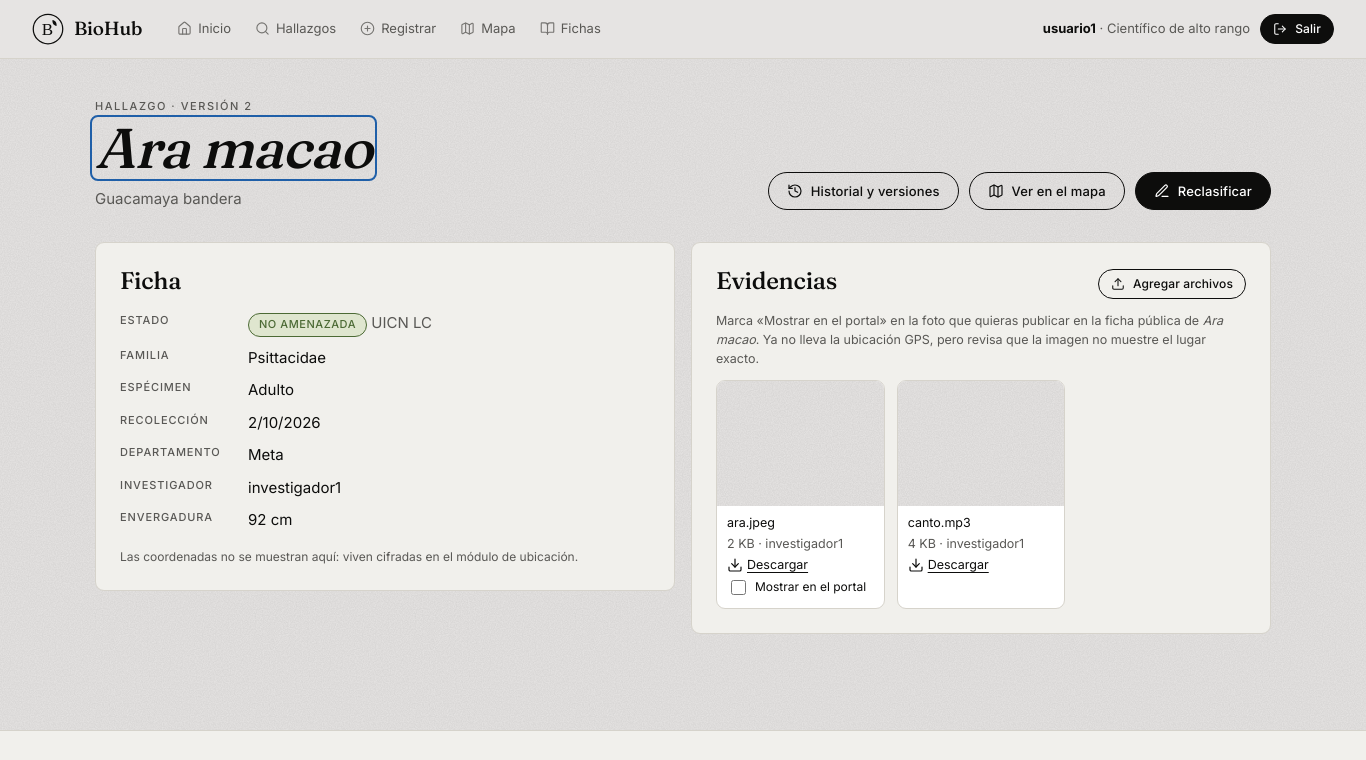
Test: Detalle del hallazgo › reclasificar exige justificación y crea la versión siguiente (HU-03)
Click the button "Reclasificar" at (1203, 191), box [1135,172,1271,210]
(page scrolled)
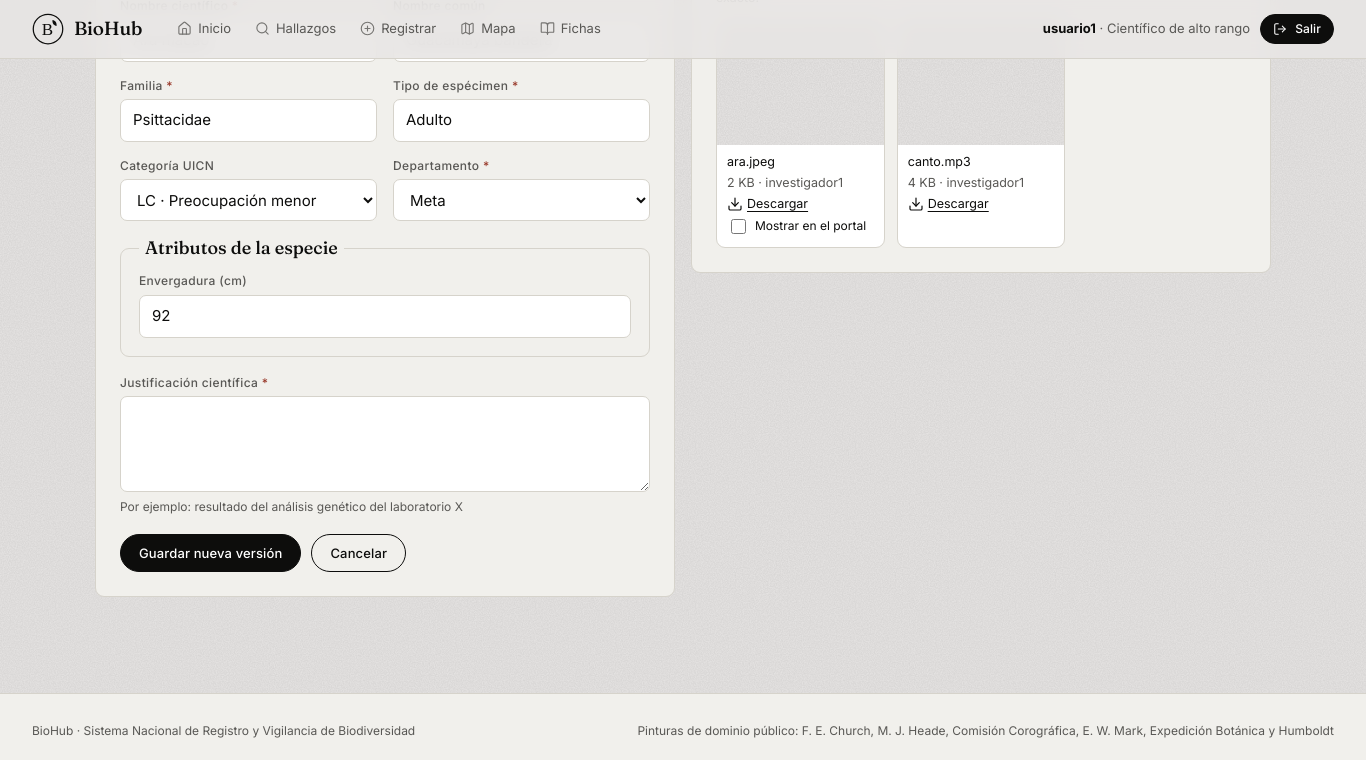
Click the button "Guardar nueva versión" at (211, 553), box [120,534,302,572]
(page scrolled)
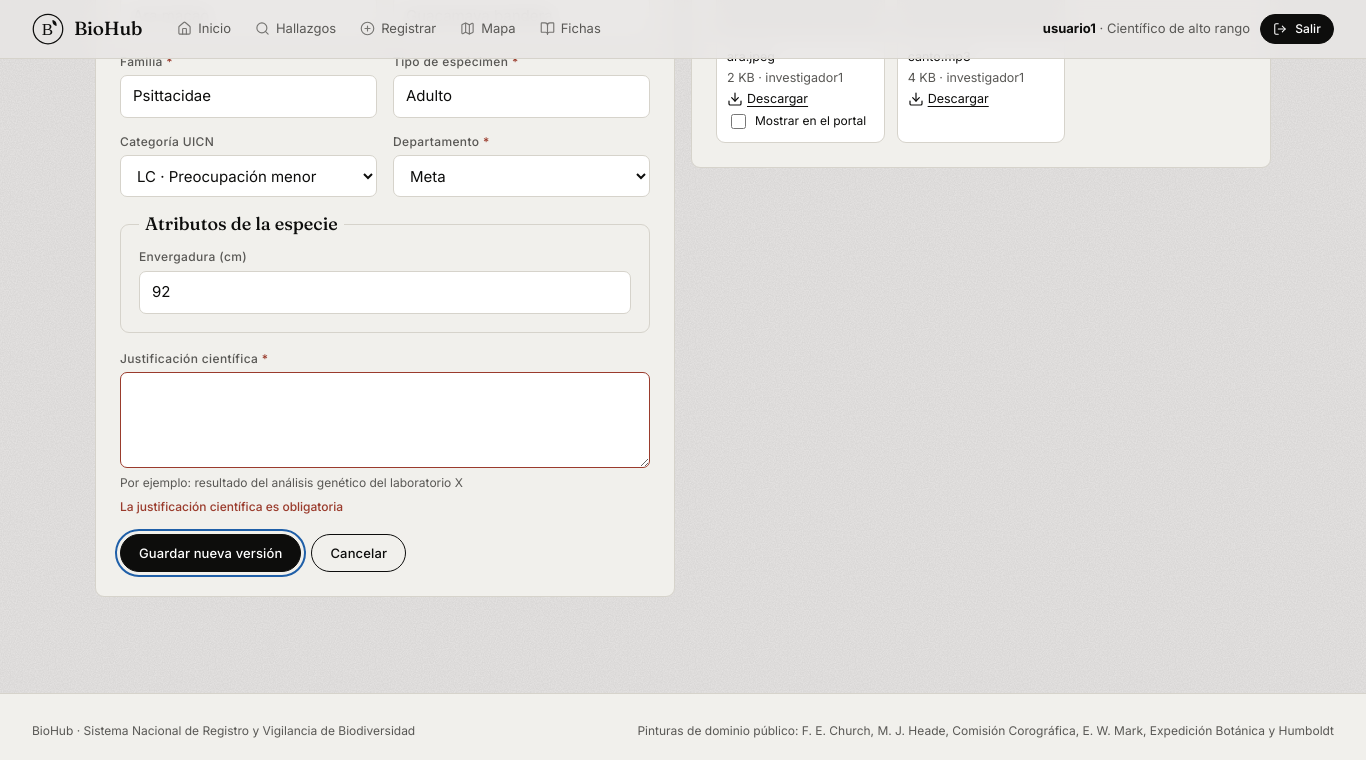
Check: the text "La justificación científica es obligatoria" is shown, box [120,499,343,514]
Type "Análisis genético del laboratorio" into the text box labelled "Justificación científica *" at (385, 420), box [120,372,650,468]
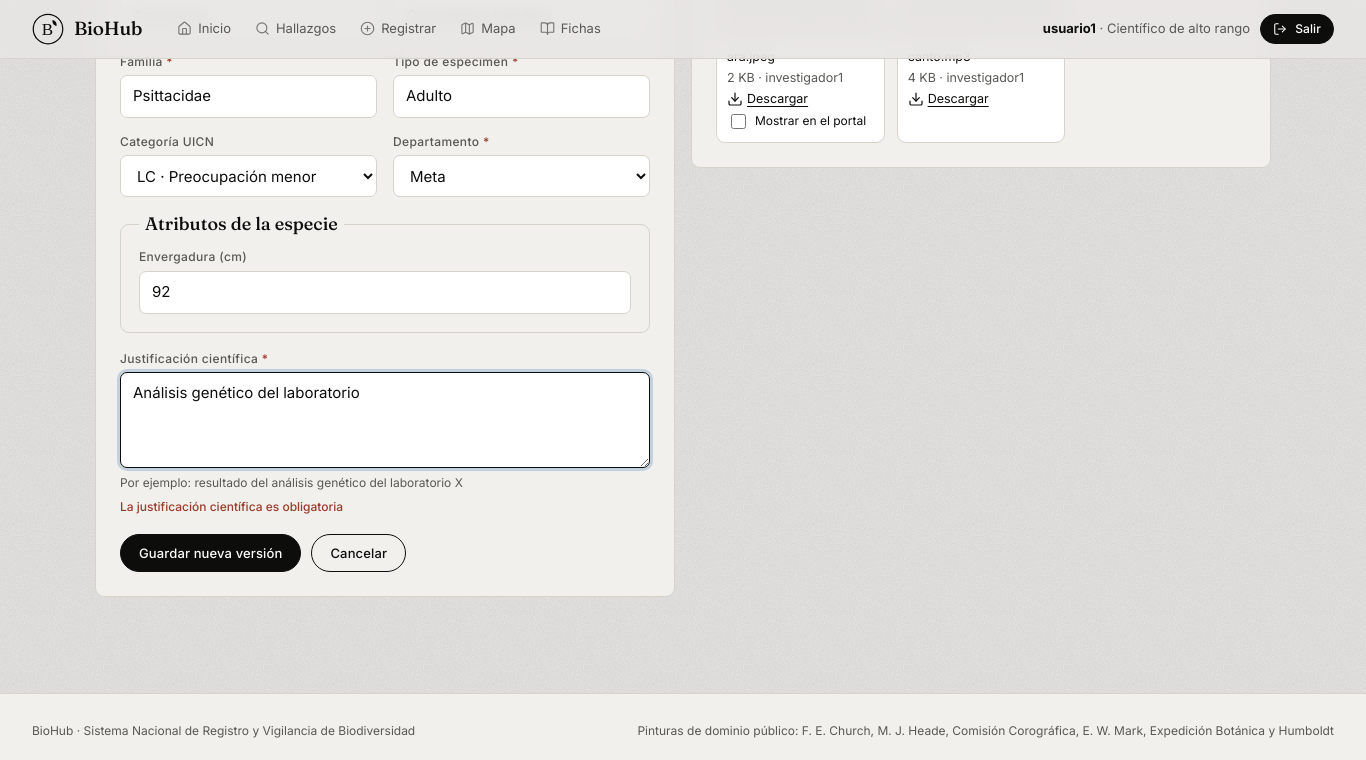
Click the button "Guardar nueva versión" at (211, 553), box [120,534,302,572]
(page scrolled)
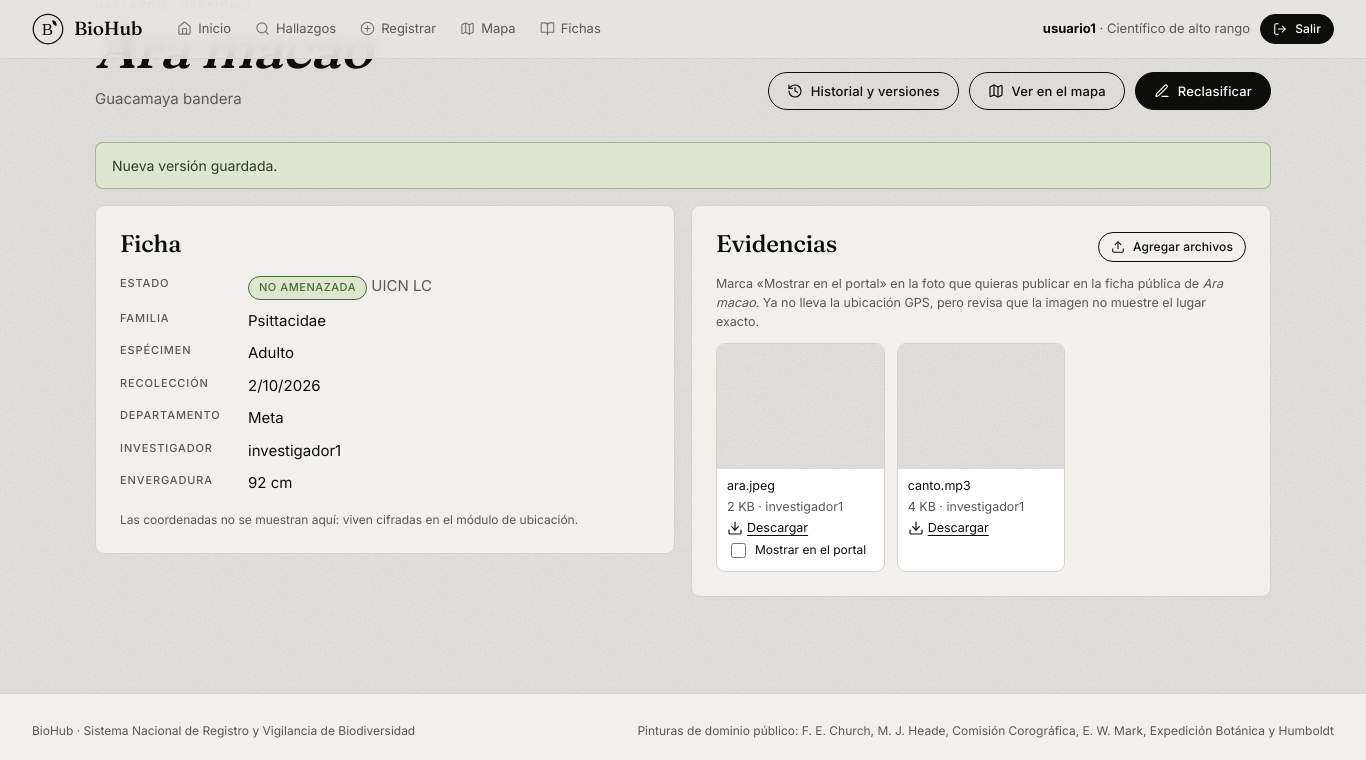
Check: the text "Nueva versión guardada." is shown, box [112,155,277,176]
